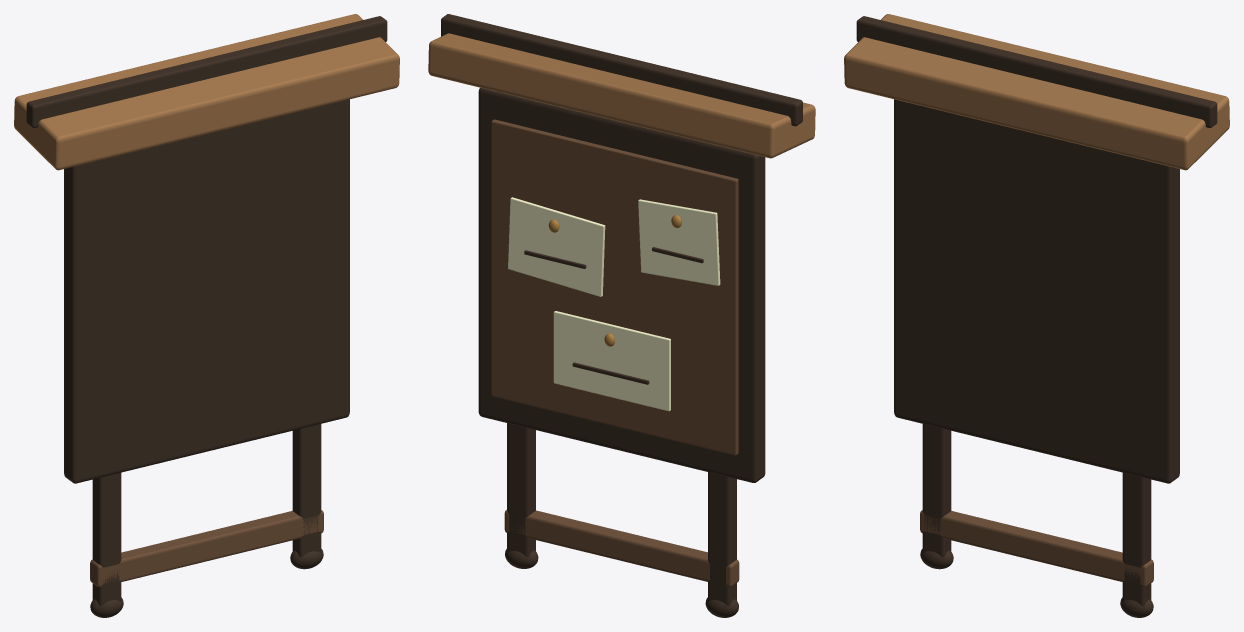
Rendered from detail_notice_board.glb.
3 views of the same model, side by side, from view 1: azimuth 30°, elevation 25°; view 2: azimuth 150°, elevation 25°; view 3: azimuth 330°, elevation 25° (orthographic).
Parts seen in each view (by area): view 1: wood; view 2: wood, plaster; view 3: wood.
Part boxes in pixels (box(x1,y1,x2,y2)): wood: box(14, 14, 399, 617); wood: box(428, 14, 815, 617); plaster: box(508, 197, 720, 411); wood: box(844, 14, 1229, 617).
Size of the model in its own units: 1.4 by 2 by 0.3.
